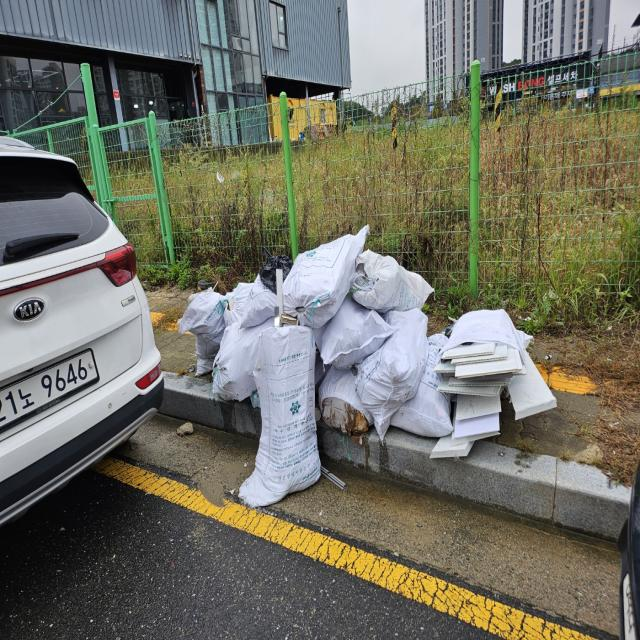General Waste: (177, 228, 558, 507)
PP bag: (236, 325, 321, 508), (356, 310, 429, 442), (282, 224, 370, 328), (389, 332, 453, 442), (352, 250, 434, 311), (179, 288, 226, 378), (244, 273, 280, 328), (221, 279, 254, 329)
